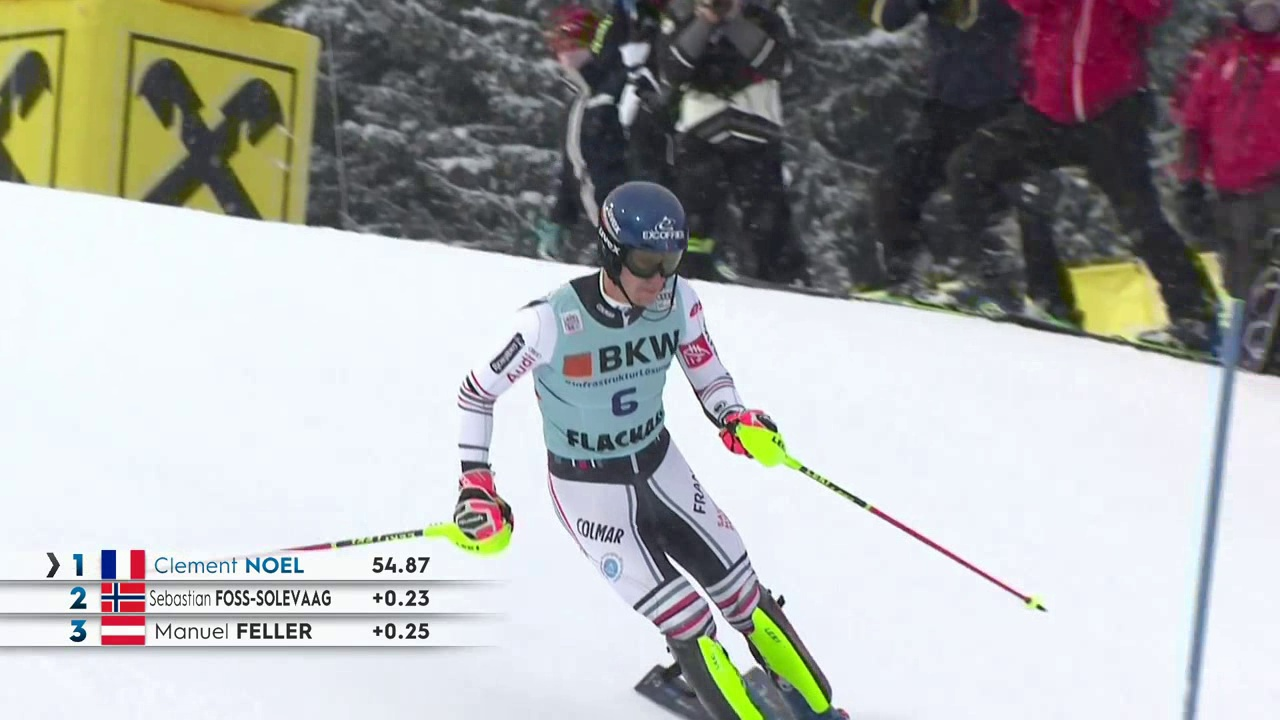raiffeisen: (124, 35, 299, 213)
